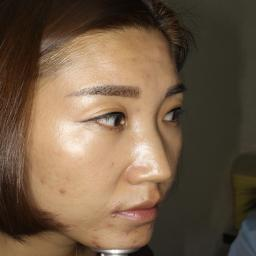ance: (134, 69, 158, 87), (38, 169, 54, 191), (56, 184, 72, 200), (66, 218, 82, 234), (125, 52, 143, 66), (119, 225, 137, 239), (141, 221, 155, 237), (104, 218, 120, 230), (90, 238, 106, 250), (108, 160, 120, 174), (88, 222, 100, 234)
